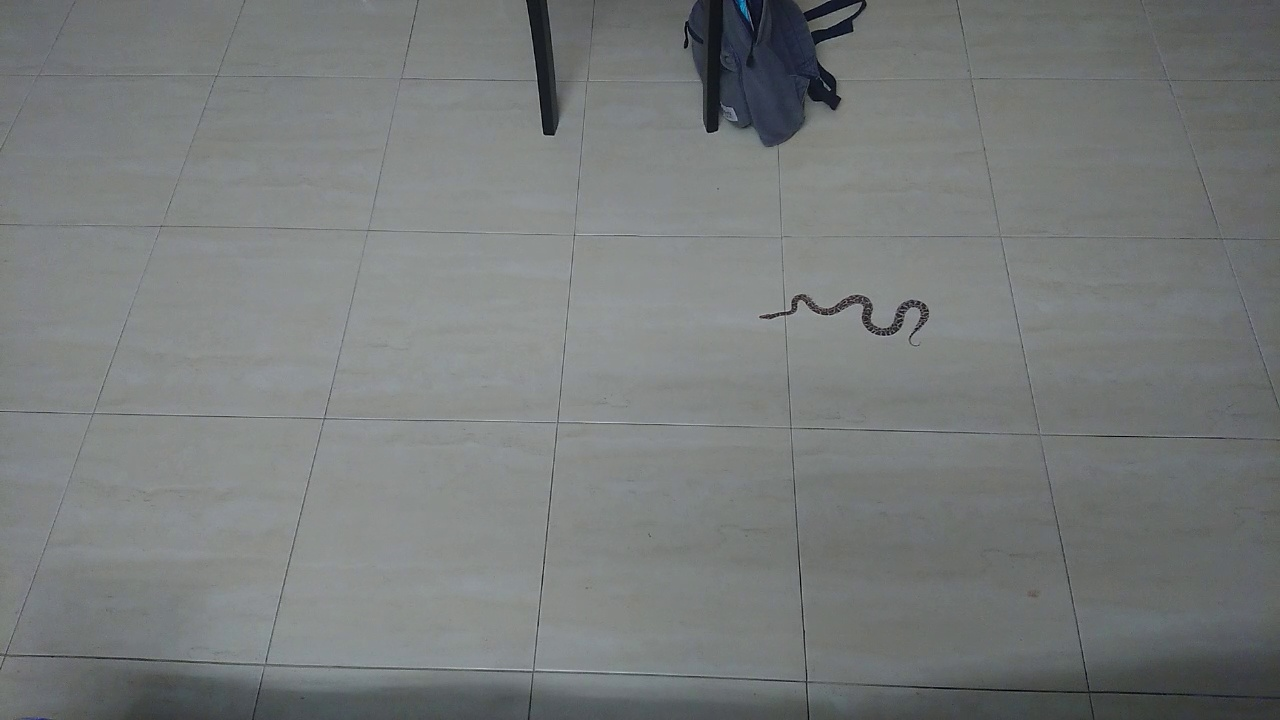snake: (746, 281, 947, 362)
